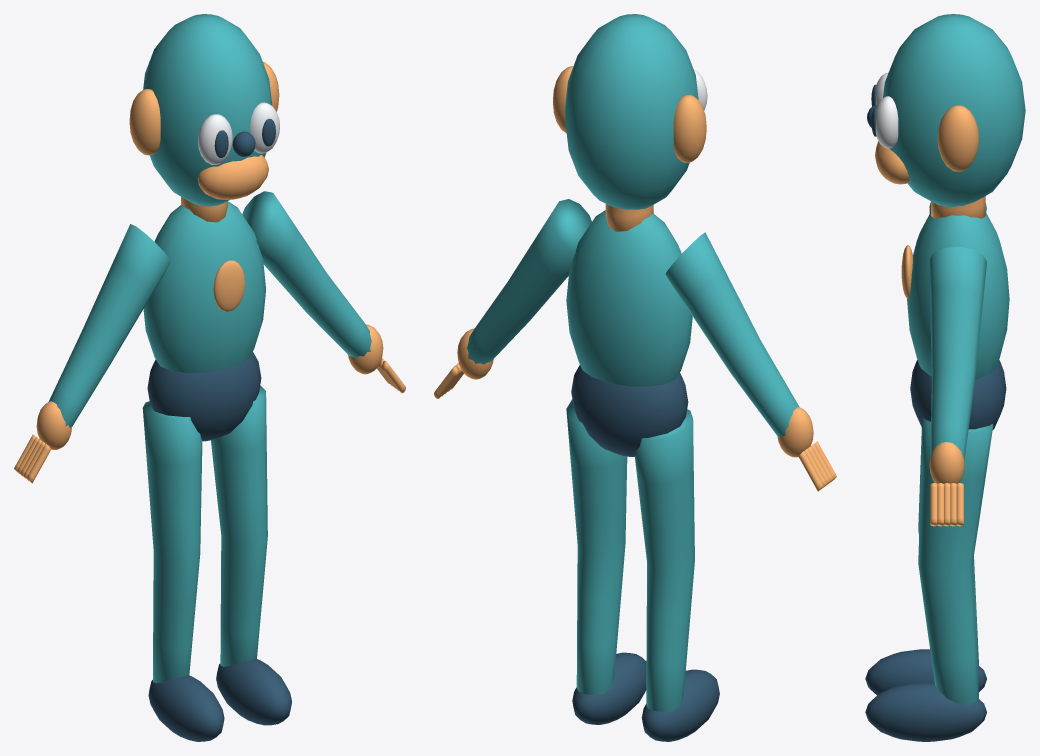
Rendered from demo-humanoid-retarget-input.glb.
3 renders of one model, left to right at view 1: azimuth 30°, elevation 25°; view 2: azimuth 150°, elevation 25°; view 3: azimuth 270°, elevation 25°, orthographic. The views are drawn at different scales.
Visible parts, largest first — view 1: torso, head-mesh, leg-left, leg-right, arm-left, arm-right, hips, boot-left, boot-right, jaw-mesh, ear-left, chest-badge (+4 smaller); view 2: head-mesh, torso, leg-left, leg-right, arm-left, arm-right, hips, boot-left, boot-right, ear-left, hand-left, neck-mesh (+2 smaller); view 3: head-mesh, leg-right, arm-right, torso, boot-right, hips, boot-left, ear-right, hand-right, eye-white-right, jaw-mesh, neck-mesh (+7 smaller).
Part boxes in pixels (x1,y1,x2,y2): torso: (143,201,265,373); head-mesh: (143,14,272,206); leg-left: (142,401,202,683); leg-right: (211,385,267,666); arm-left: (48,224,170,427); arm-right: (242,191,371,357); hips: (147,352,261,441); boot-left: (148,675,224,741); boot-right: (216,659,291,725); jaw-mesh: (197,155,268,199); ear-left: (129,89,160,155); chest-badge: (213,260,244,311); head-mesh: (564,14,698,209); torso: (566,210,692,386); leg-left: (634,409,694,711); leg-right: (566,399,627,694); arm-left: (665,232,799,437); arm-right: (466,199,591,364); hips: (571,365,688,456); boot-left: (641,669,719,741); boot-right: (572,652,646,724); ear-left: (673,94,706,162); hand-left: (777,407,813,457); neck-mesh: (605,204,653,231); head-mesh: (883,14,1025,206); leg-right: (918,418,993,705); arm-right: (929,246,986,460); torso: (907,212,1009,379); boot-right: (865,682,986,741); hips: (910,360,1006,429); boot-left: (865,649,986,695); ear-right: (937,105,978,171); hand-right: (929,442,964,483); eye-white-right: (875,96,898,148); jaw-mesh: (875,141,909,184); neck-mesh: (931,196,985,218).
Size of the model in its own units: 1.37 by 2.42 by 0.5.
